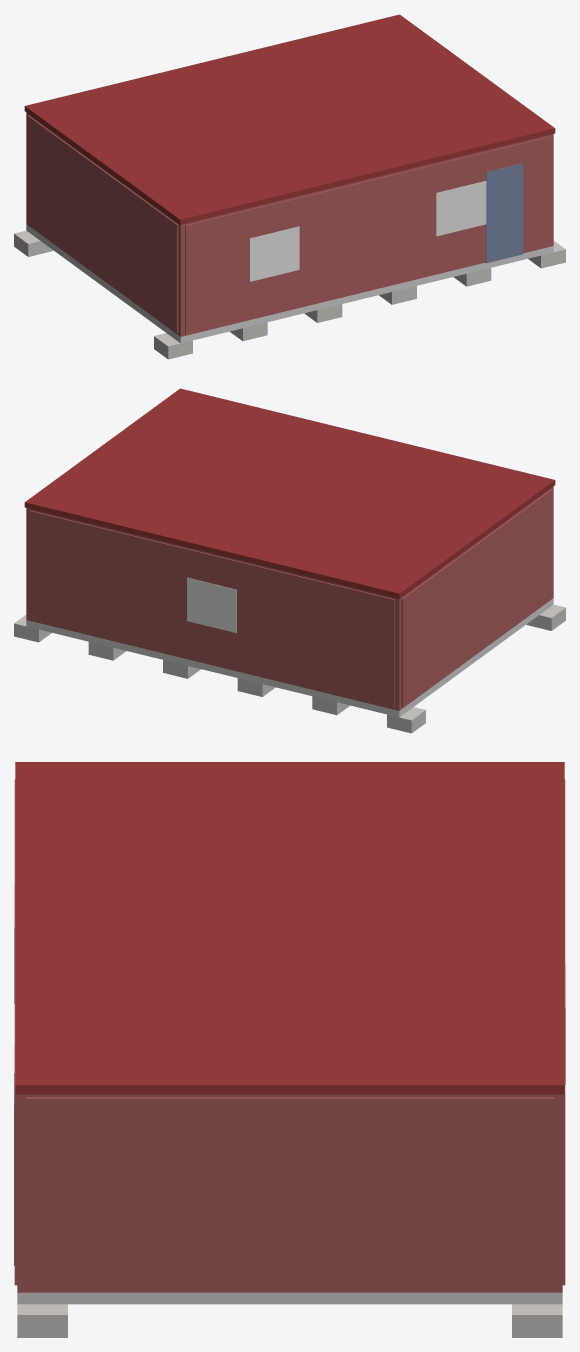
Rendered from Studio-30-Base-MaroonRed-LOD0.glb.
3 views of the same model, one above another, from view 1: azimuth 30°, elevation 25°; view 2: azimuth 150°, elevation 25°; view 3: azimuth 270°, elevation 25° (orthographic). The views are drawn at different scales.
Visible parts, largest first — view 1: RoofMain, ExteriorPanelsStandard, WindowsStandard, BaseFrame, FoundationBlocks, ExteriorShell, EntryDoor; view 2: RoofMain, ExteriorPanelsStandard, BaseFrame, FoundationBlocks, ExteriorShell, WindowsStandard; view 3: RoofMain, ExteriorPanelsStandard, ExteriorShell, BaseFrame, FoundationBlocks.
Part boxes in pixels (x1,y1,x2,y2): RoofMain: (24,14,555,224); ExteriorPanelsStandard: (27,115,550,334); WindowsStandard: (249,181,486,281); BaseFrame: (26,224,553,343); FoundationBlocks: (14,230,565,359); ExteriorShell: (26,112,553,336); EntryDoor: (485,163,523,263); RoofMain: (24,388,555,598); ExteriorPanelsStandard: (30,489,552,708); BaseFrame: (26,598,553,717); FoundationBlocks: (14,604,565,733); ExteriorShell: (26,486,553,710); WindowsStandard: (187,577,236,633); RoofMain: (15,762,564,1094); ExteriorPanelsStandard: (14,779,565,1289); ExteriorShell: (17,1094,562,1292); BaseFrame: (17,1292,562,1304); FoundationBlocks: (17,1304,562,1337).
Size of the model in its own units: 9.6 by 3.17 by 6.53.
